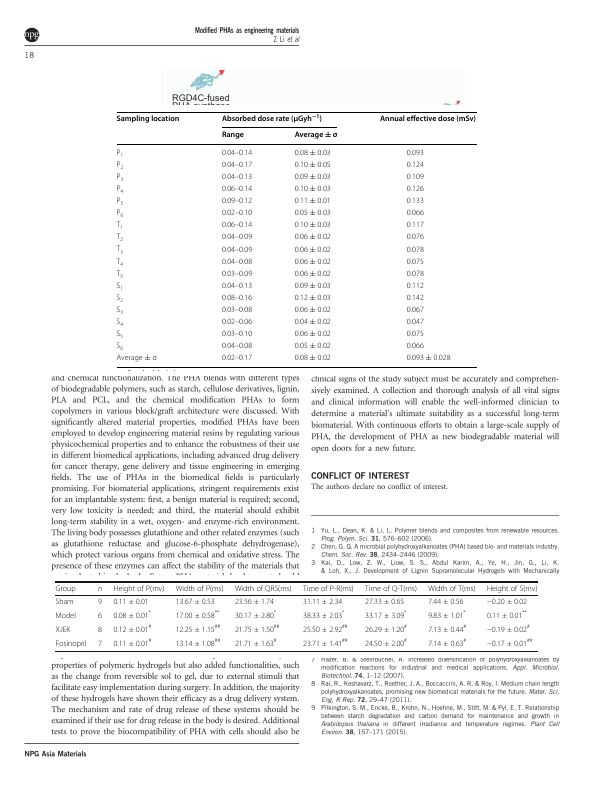borderless: (115, 110, 477, 367), (55, 580, 538, 651)
cell: (221, 113, 323, 124), (379, 114, 477, 124), (116, 114, 180, 124), (234, 584, 293, 593), (486, 637, 533, 648), (175, 623, 221, 634), (234, 623, 280, 634), (302, 623, 348, 634), (175, 637, 221, 648), (302, 637, 348, 648), (175, 609, 220, 620), (486, 623, 531, 634), (364, 584, 418, 593), (364, 623, 408, 634), (234, 637, 278, 648), (364, 637, 408, 648), (112, 584, 165, 593), (302, 584, 355, 593), (234, 609, 277, 620), (302, 609, 345, 620), (364, 609, 407, 620), (486, 584, 538, 593), (486, 609, 528, 620), (427, 584, 477, 593), (175, 584, 224, 593), (294, 130, 338, 140), (112, 609, 152, 620), (427, 609, 467, 620), (112, 623, 152, 634), (427, 623, 467, 634), (112, 637, 152, 648), (427, 637, 467, 648), (406, 354, 452, 363), (115, 354, 158, 363), (294, 148, 332, 158), (294, 160, 332, 170), (294, 269, 332, 279), (294, 281, 332, 291), (486, 597, 528, 606), (175, 597, 216, 606), (234, 597, 275, 606), (302, 597, 343, 606), (364, 597, 405, 606), (294, 173, 332, 182), (294, 185, 332, 194), (294, 197, 332, 206), (294, 209, 332, 218), (294, 221, 332, 230), (294, 233, 332, 242), (294, 245, 332, 254), (294, 257, 332, 266), (294, 294, 332, 303), (294, 306, 332, 315), (294, 318, 332, 327), (294, 330, 332, 339), (294, 342, 332, 351), (294, 354, 332, 363), (112, 597, 150, 606), (427, 597, 464, 606), (221, 148, 253, 158), (221, 160, 253, 170), (221, 269, 253, 279), (221, 281, 253, 291), (221, 173, 253, 182), (221, 185, 253, 194), (221, 197, 253, 206), (221, 209, 253, 218), (221, 221, 253, 230), (221, 233, 253, 242), (221, 245, 253, 254), (221, 257, 253, 266), (221, 294, 253, 303), (221, 306, 253, 315), (221, 318, 253, 327), (221, 330, 253, 339), (221, 342, 253, 351), (221, 354, 253, 363), (55, 639, 87, 648), (221, 130, 245, 140), (55, 611, 77, 620), (406, 148, 425, 158), (406, 160, 425, 170), (406, 269, 425, 279), (406, 281, 425, 291), (55, 584, 76, 593), (406, 173, 425, 182), (406, 185, 425, 194), (406, 197, 425, 206), (406, 209, 425, 218), (406, 221, 425, 230), (406, 233, 425, 242), (406, 245, 425, 254), (406, 257, 425, 266), (406, 294, 425, 303), (406, 306, 425, 315), (406, 318, 425, 327), (406, 330, 425, 339), (406, 342, 425, 351), (55, 597, 74, 606), (55, 625, 71, 634), (115, 221, 124, 232), (115, 233, 124, 244), (115, 245, 124, 256), (115, 257, 124, 268), (115, 269, 124, 280), (115, 281, 124, 292), (115, 330, 124, 341), (115, 342, 124, 353), (115, 294, 124, 304), (115, 306, 124, 316), (115, 318, 124, 328), (116, 148, 124, 159), (116, 160, 124, 171), (116, 209, 124, 220), (116, 173, 124, 183), (116, 185, 124, 195), (116, 197, 124, 207), (97, 597, 103, 606), (97, 611, 103, 620), (97, 625, 103, 634), (97, 639, 103, 648), (97, 586, 103, 592)
